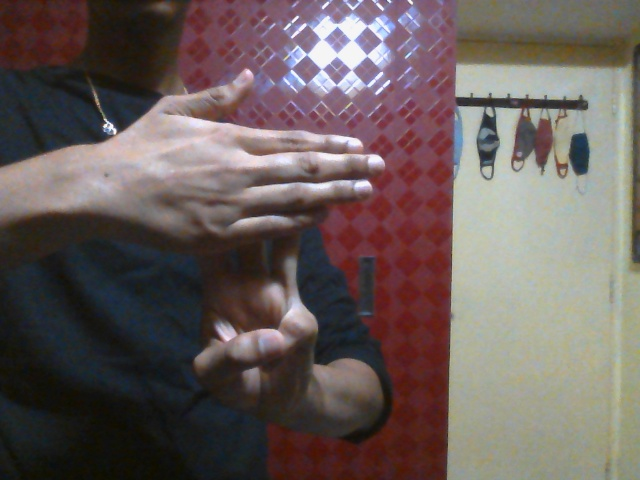M: (108, 69, 388, 398)
